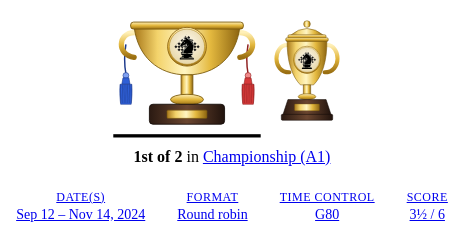
MemberHighlightsComponent › with podium finishes › should light up a selected trophy and show its tournament below
Step 1. Click the 2nd button with class "trophy" → [307, 74], box [270, 16, 344, 132]
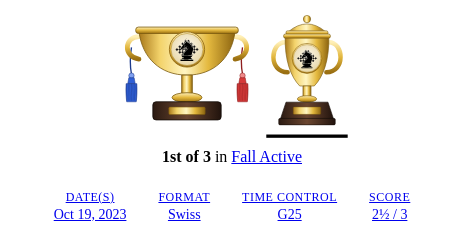
Expected: the element with class "details__heading" reads "1st of 3 in Fall Active", [162, 148, 302, 166]
